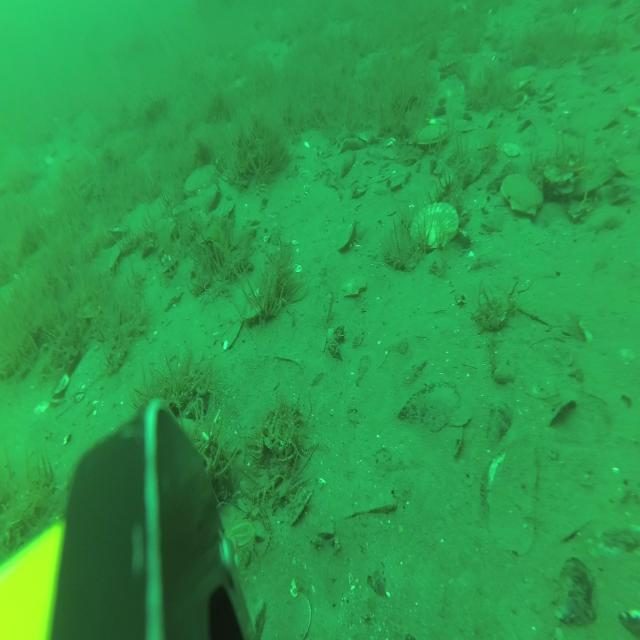scallop: (408, 196, 460, 253), (498, 166, 547, 220), (183, 162, 221, 199), (503, 60, 538, 96), (414, 117, 448, 149), (342, 271, 369, 300)
